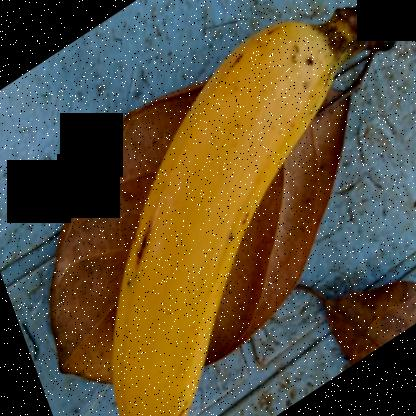freshripe: (92, 19, 321, 415)
